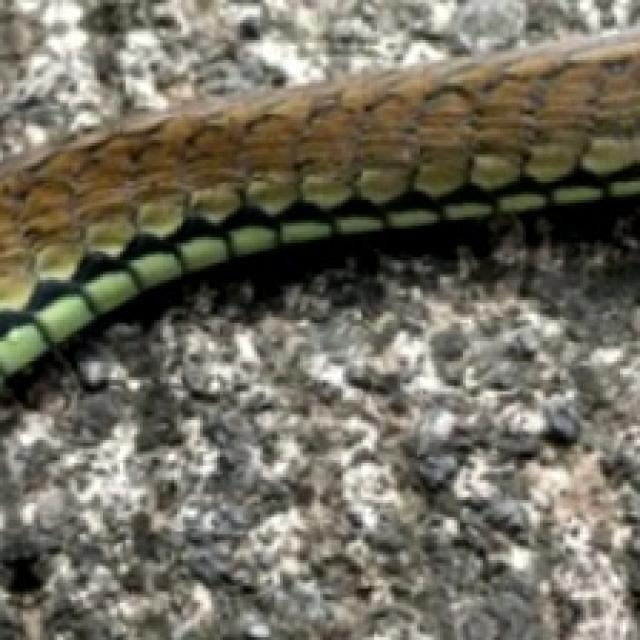philippine bronzeback treesnake: (0, 34, 637, 380)
